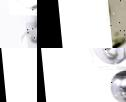ironball: (104, 0, 125, 48), (104, 69, 125, 101), (89, 48, 125, 65), (23, 21, 37, 48), (111, 48, 125, 72)
